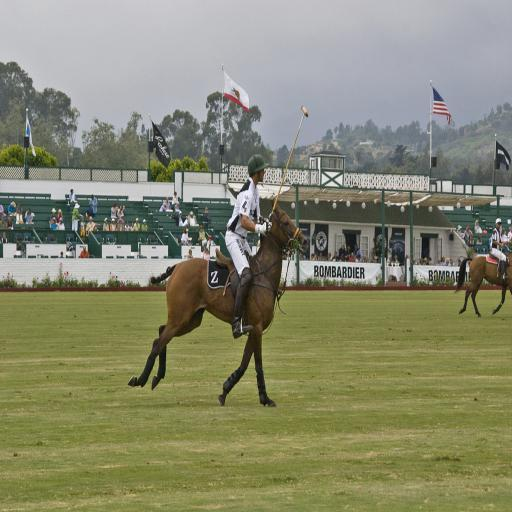horse: (127, 198, 310, 404), (454, 253, 512, 319)
